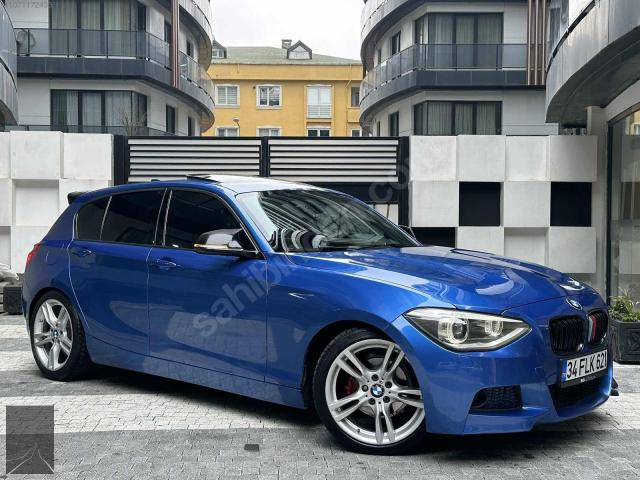plaka: (563, 350, 607, 381)
